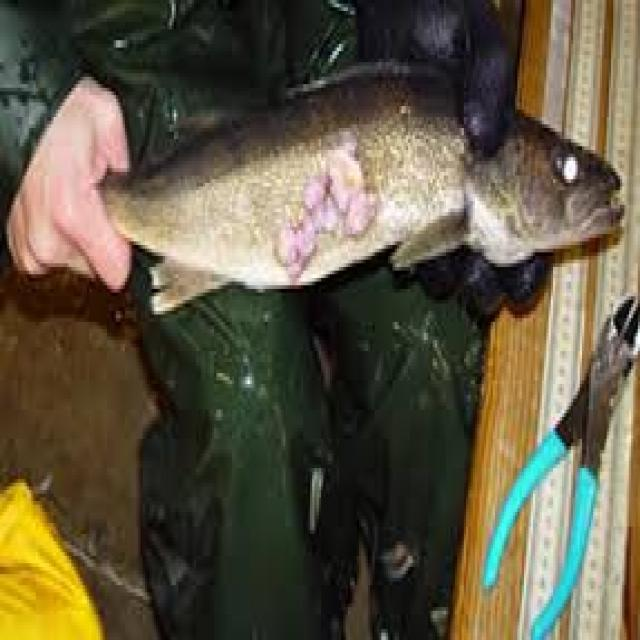EUS Disease: (113, 89, 616, 326), (206, 99, 609, 289)
